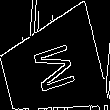M_W: (26, 39, 78, 97)
